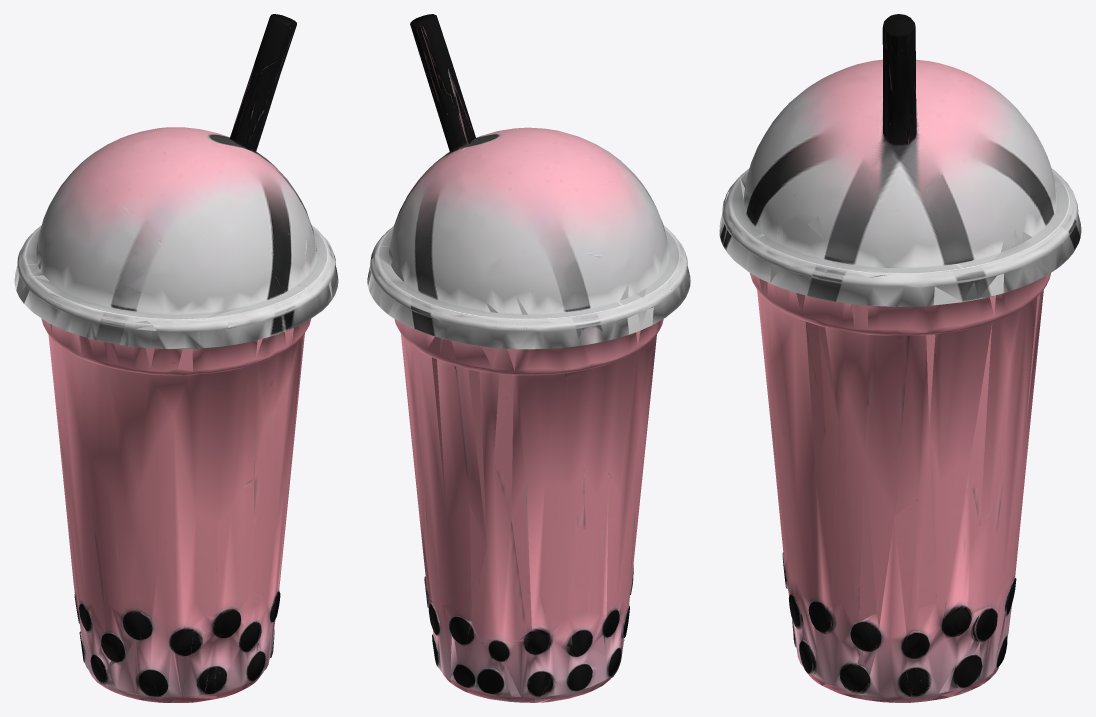
File: addy_lunch_boba.obj
The picture shows the model from 3 angles, left to right: view 1: azimuth 30°, elevation 25°; view 2: azimuth 150°, elevation 25°; view 3: azimuth 270°, elevation 25°; orthographic projection. The views are drawn at different scales.
Parts seen in each view (by area): view 1: model; view 2: model; view 3: model.
Boxes of the visible parts, x1,y1,x2,y2 form: model: (14, 14, 338, 702); model: (367, 14, 690, 702); model: (719, 14, 1081, 702).
Bounding box in the file's own units: 0.8924 × 1.9 × 0.8927.
